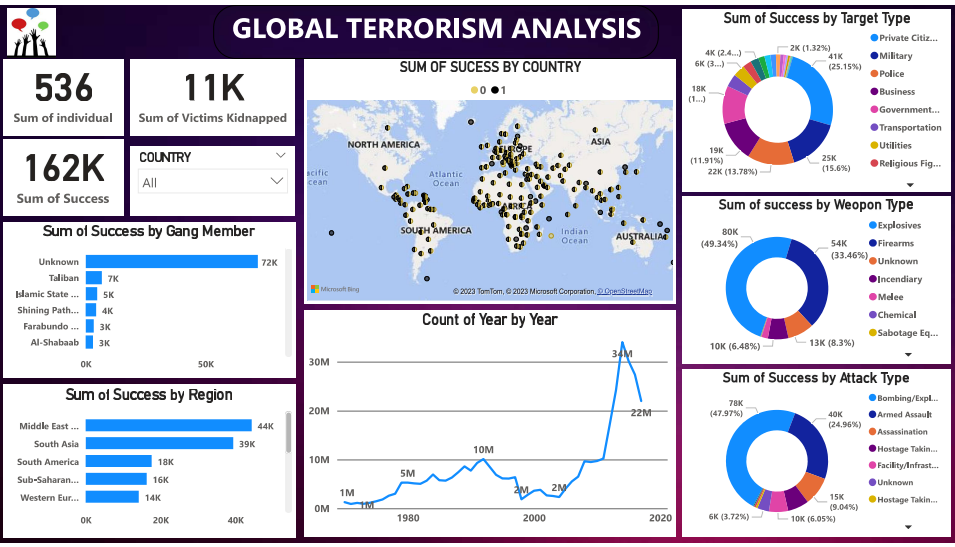

Layout of this report page (visuals, bound fields, positions):
{"tool":"powerbi","page":{"name":"DASHBOARD","canvas":[1280,720],"ordinal":3},"visuals":[{"type":"textbox","box":[285.8,0,597,72.4],"z":0},{"type":"image","box":[0,0,84.4,74.8],"z":1000},{"type":"slicer","fields":{"Values":["globalterrorismdb_0718dist.country_txt"]},"box":[174.9,189.3,220.7,92.9],"z":2000},{"type":"card","fields":{"Values":["Sum(globalterrorismdb_0718dist.success)"]},"box":[3.6,179.7,161.6,102.5],"z":3000},{"type":"card","fields":{"Values":["Sum(globalterrorismdb_0718dist.ishostkid)"]},"box":[174.9,72.4,220.7,101.3],"z":4000},{"type":"map","title":"SUM OF SUCESS BY COUNTRY","fields":{"Category":["globalterrorismdb_0718dist.country_txt"],"Series":["globalterrorismdb_0718dist.success"]},"box":[407.6,72.4,498.1,328],"z":5000},{"type":"clusteredBarChart","title":"Sum of Success by Region","fields":{"Category":["globalterrorismdb_0718dist.region_txt"],"Y":["Sum(globalterrorismdb_0718dist.success)"]},"box":[3.6,507.7,392,205],"z":6000},{"type":"barChart","title":"Sum of Success by Gang Member","fields":{"Y":["Sum(globalterrorismdb_0718dist.success)"],"Category":["globalterrorismdb_0718dist.gname"]},"box":[3.6,290.7,392,208.6],"z":7000},{"type":"lineChart","title":"Count of Year by Year","fields":{"Category":["globalterrorismdb_0718dist.iyear"],"Y":["Sum(globalterrorismdb_0718dist.iyear)"]},"box":[407.6,408.8,498.1,302.7],"z":8000},{"type":"donutChart","title":"Sum of Success by Target Type","fields":{"Y":["Sum(globalterrorismdb_0718dist.success)"],"Category":["globalterrorismdb_0718dist.targtype1_txt"]},"box":[914.2,6,359.4,243.6],"z":9000},{"type":"donutChart","title":"Sum of Success by Attack Type","fields":{"Y":["Sum(globalterrorismdb_0718dist.success)"],"Category":["globalterrorismdb_0718dist.attacktype1_txt"]},"box":[914.2,488.4,359.4,223.1],"z":10000},{"type":"donutChart","title":"Sum of success by Weopon Type","fields":{"Y":["Sum(globalterrorismdb_0718dist.success)"],"Category":["globalterrorismdb_0718dist.weaptype1_txt"]},"box":[914.2,255.7,359.4,224.3],"z":11000},{"type":"card","fields":{"Values":["Sum(globalterrorismdb_0718dist.individual)"]},"box":[3.6,72.4,161.6,101.3],"z":12000}]}

Visuals, with their boxes in screenshot pixels (x1, y1, x2, y2), scaled from the page's 1280x720 canvas onto the 955x547 screenshot:
textbox: detection(213, 0, 659, 55)
image: detection(0, 0, 63, 57)
slicer - globalterrorismdb_0718dist.country_txt: detection(130, 144, 295, 214)
card - Sum(globalterrorismdb_0718dist.success): detection(3, 137, 123, 214)
card - Sum(globalterrorismdb_0718dist.ishostkid): detection(130, 55, 295, 132)
"SUM OF SUCESS BY COUNTRY" map: detection(304, 55, 676, 304)
"Sum of Success by Region" clusteredBarChart: detection(3, 386, 295, 541)
"Sum of Success by Gang Member" barChart: detection(3, 221, 295, 379)
"Count of Year by Year" lineChart: detection(304, 311, 676, 541)
"Sum of Success by Target Type" donutChart: detection(682, 5, 950, 190)
"Sum of Success by Attack Type" donutChart: detection(682, 371, 950, 541)
"Sum of success by Weopon Type" donutChart: detection(682, 194, 950, 365)
card - Sum(globalterrorismdb_0718dist.individual): detection(3, 55, 123, 132)
